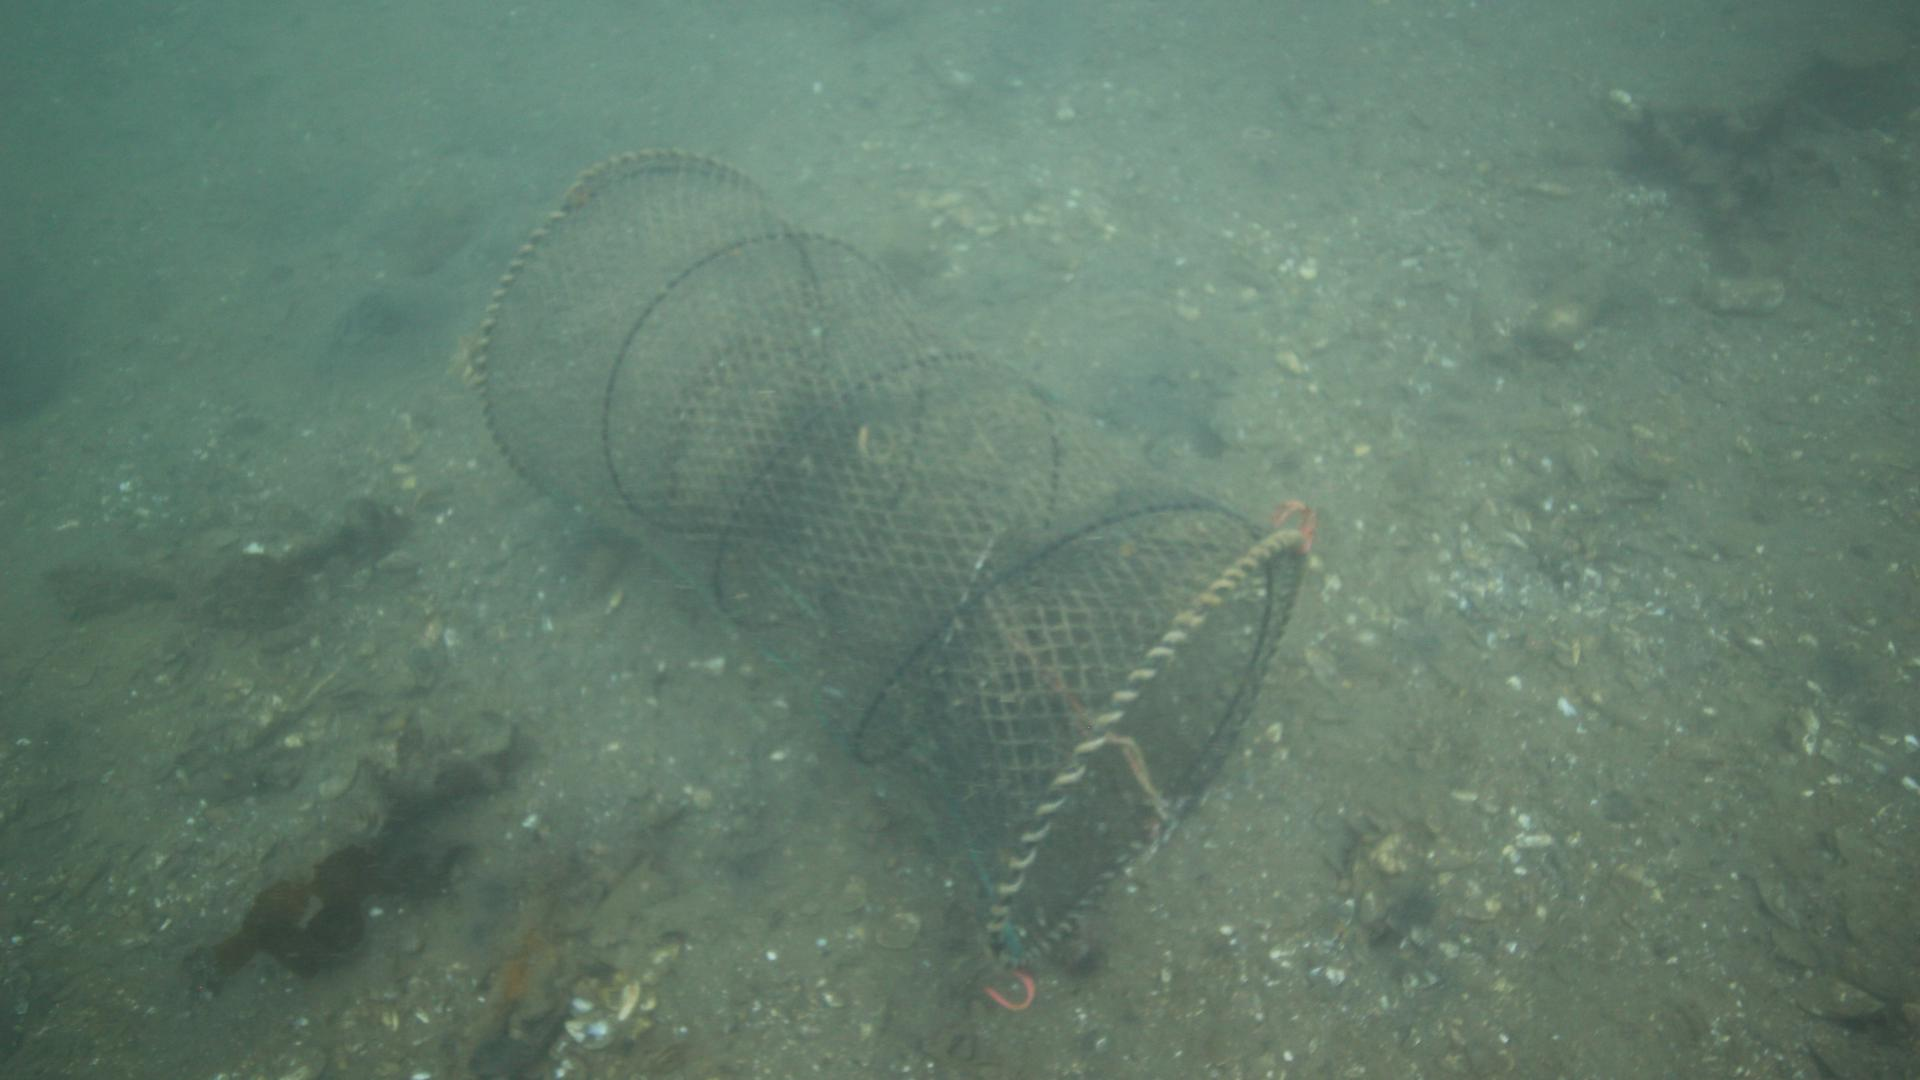spring fish trap: (473, 140, 1313, 957)
